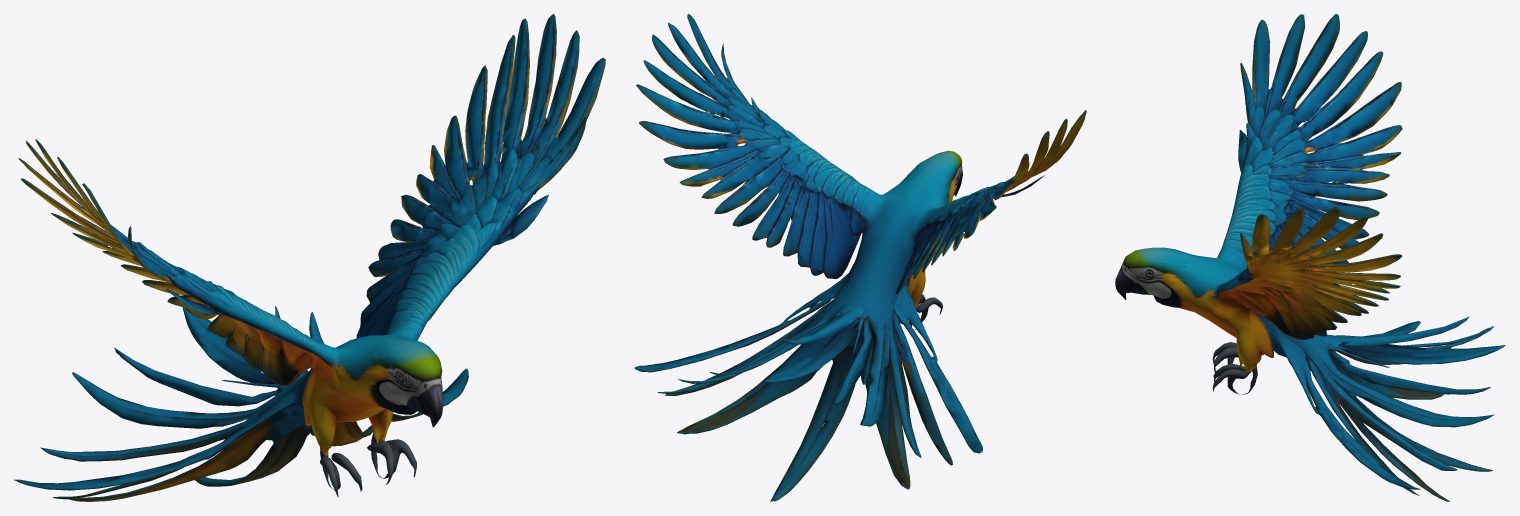
Rendered from macaw-blue-yellow.glb.
The picture shows the model from 3 angles, left to right: view 1: azimuth 30°, elevation 25°; view 2: azimuth 150°, elevation 25°; view 3: azimuth 270°, elevation 25°; orthographic projection. The views are drawn at different scales.
Visible parts, largest first — view 1: tripo_node_90a1b625_tripo_mat_90a1b625_0; view 2: tripo_node_90a1b625_tripo_mat_90a1b625_0; view 3: tripo_node_90a1b625_tripo_mat_90a1b625_0.
Boxes of the visible parts, x1,y1,x2,y2 form: tripo_node_90a1b625_tripo_mat_90a1b625_0: [14, 14, 605, 501]; tripo_node_90a1b625_tripo_mat_90a1b625_0: [634, 14, 1086, 501]; tripo_node_90a1b625_tripo_mat_90a1b625_0: [1115, 14, 1505, 501].
Bounding box in the file's own units: 0.9966 × 0.8638 × 0.8484.
Materials: 1 (1 with a texture image).
